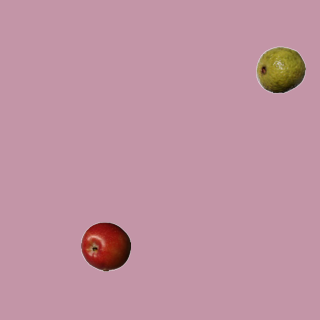Apple Braeburn: (80, 221, 130, 271)
Guava: (255, 44, 305, 94)
